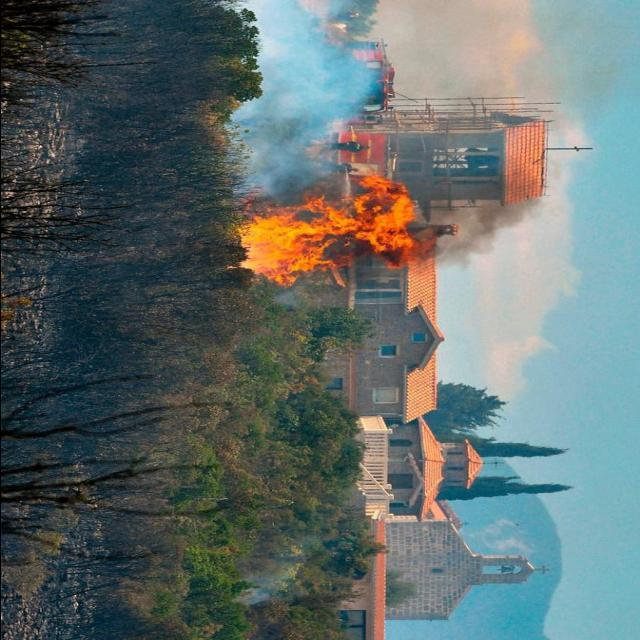Fire: (235, 178, 415, 292), (333, 22, 351, 36)
